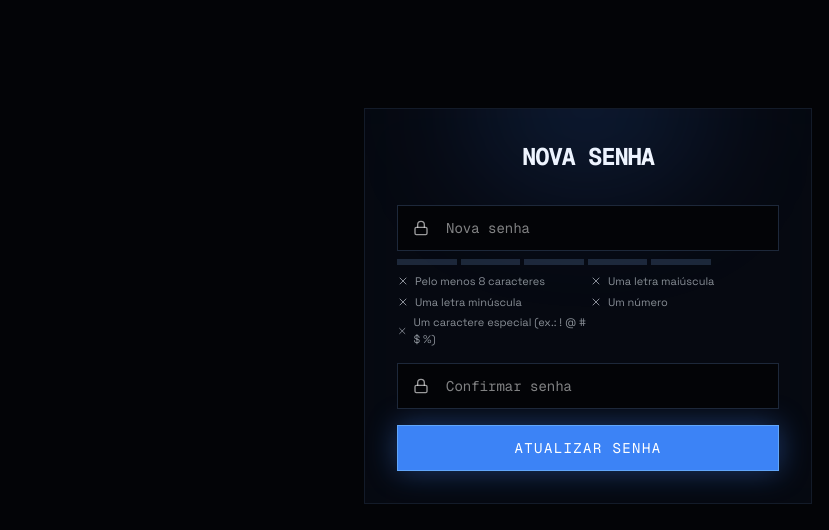
Test: /redefinir-senha › atualiza a senha forte, encerra a sessão e volta ao login
In the password field labelled "Nova senha": point(588, 228) top-left (397, 205), bottom-right (779, 251), type "Ciclo@2026"
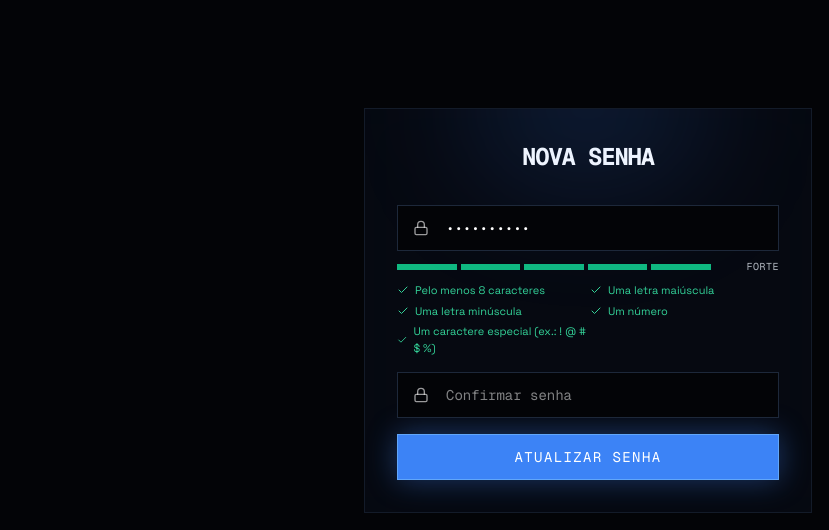
In the password field labelled "Confirmar senha": point(588, 395) top-left (397, 372), bottom-right (779, 418), type "Ciclo@2026"
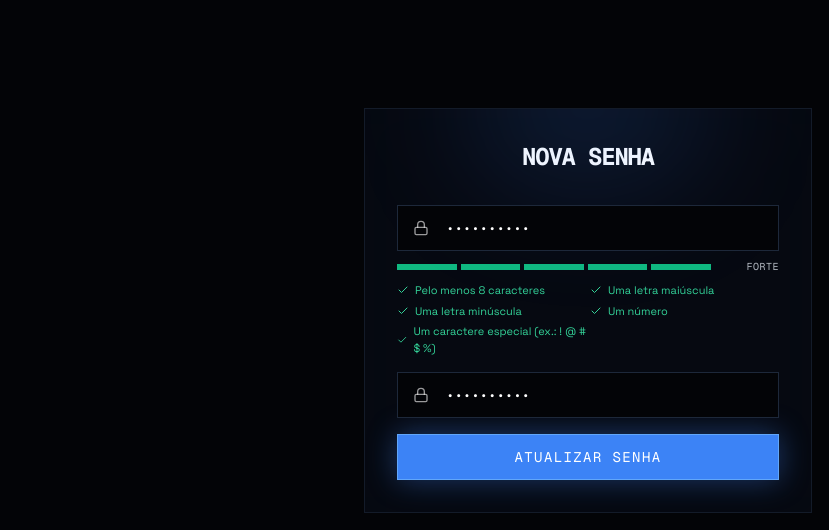
Click the button "Atualizar Senha": point(588, 457) top-left (397, 434), bottom-right (779, 480)
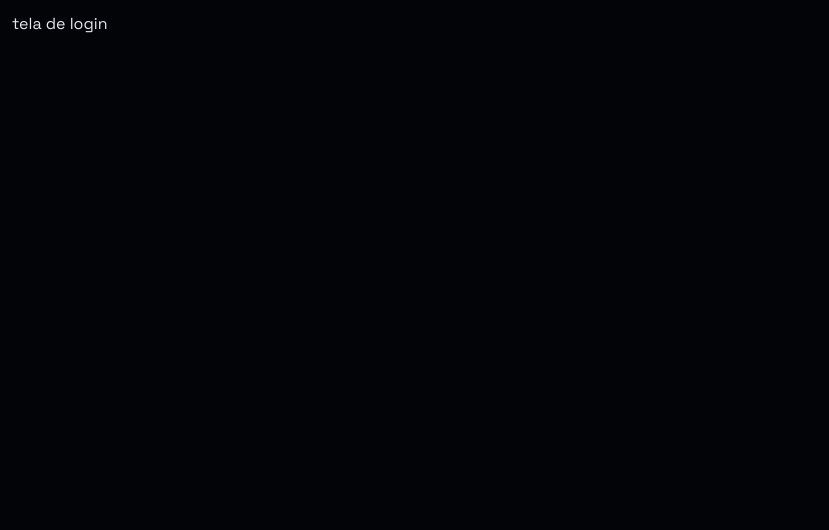
Expected: the text "tela de login" is shown, top-left (12, 13), bottom-right (108, 34)
